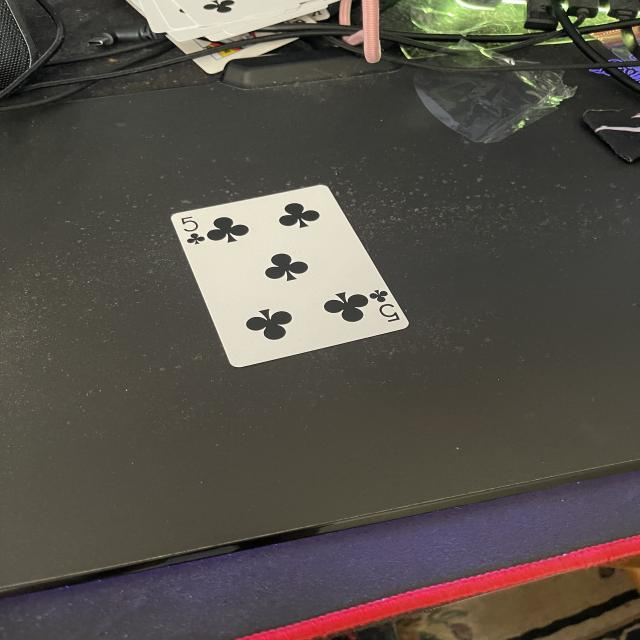5 of clubs: (175, 161, 392, 394)
